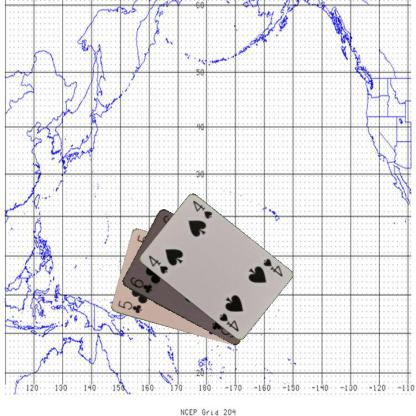4s: (146, 252, 169, 275), (260, 256, 284, 278)
5c: (115, 297, 143, 315)
6c: (127, 275, 154, 294)
